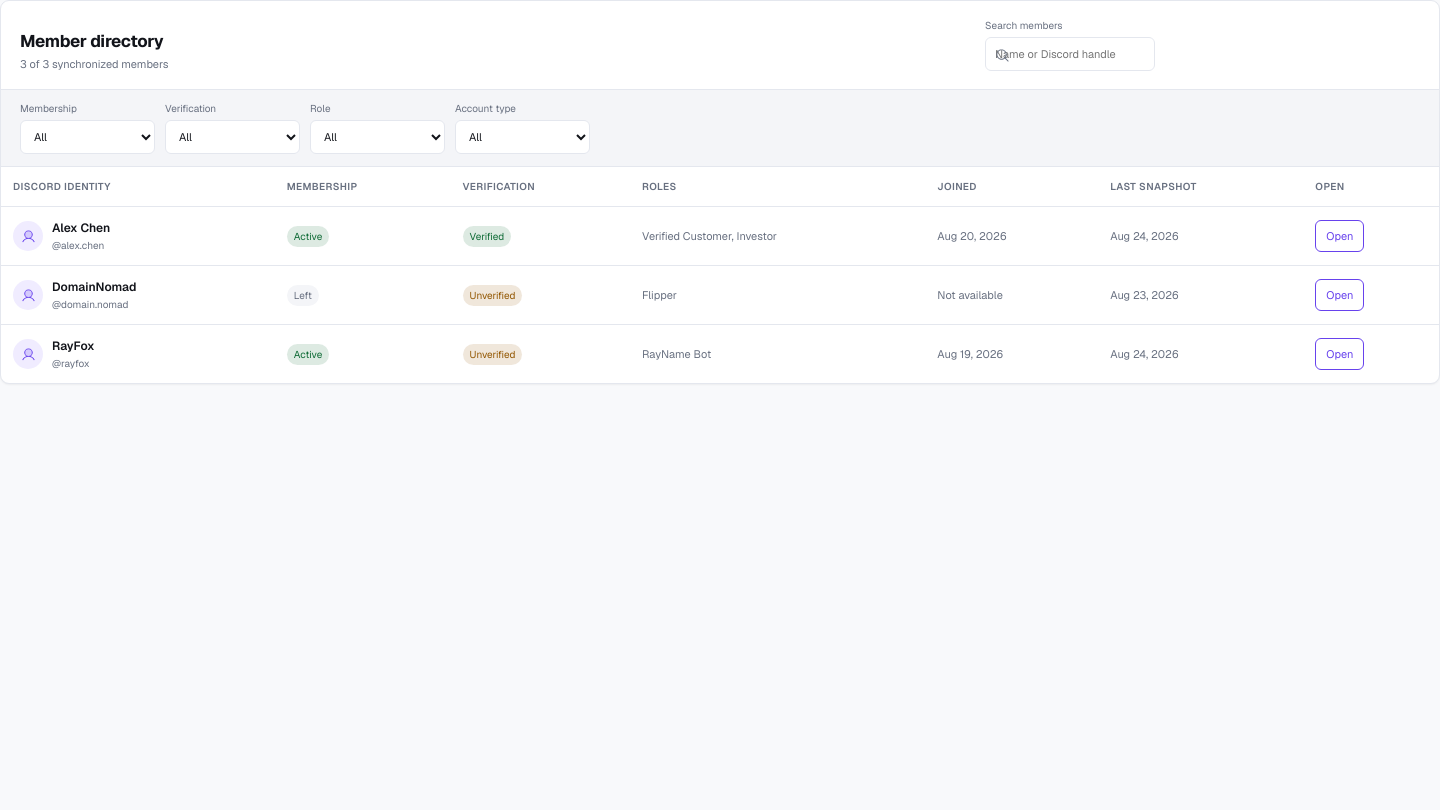
Test: closes the member dialog on Escape and restores focus to its opener
This screenshot has width=1440, height=810.
Click the button with aria-label "Open DomainNomad" at (1340, 295), box x1=1315 y1=279 x2=1364 y2=311
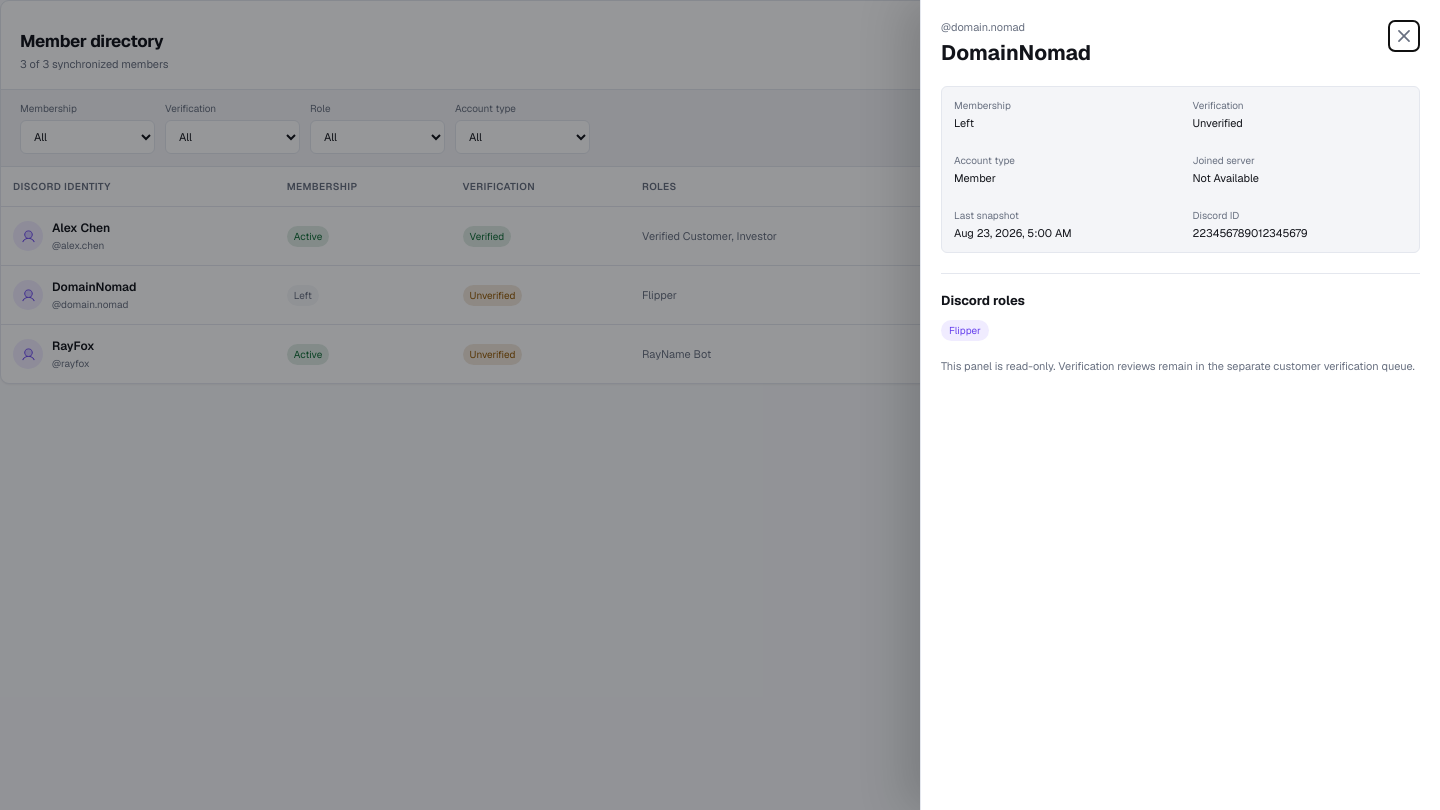
Press Escape
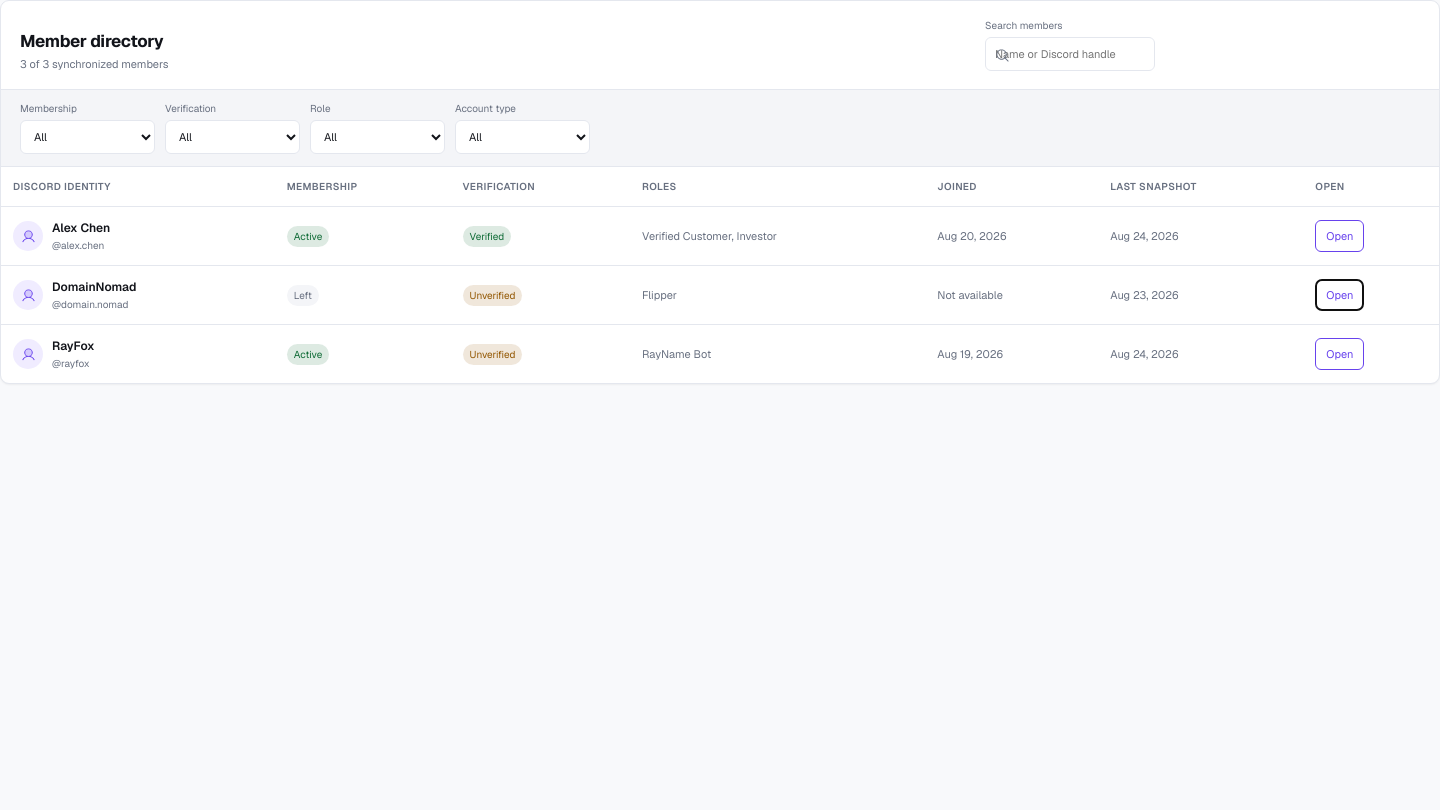
Check: the dialog is gone
